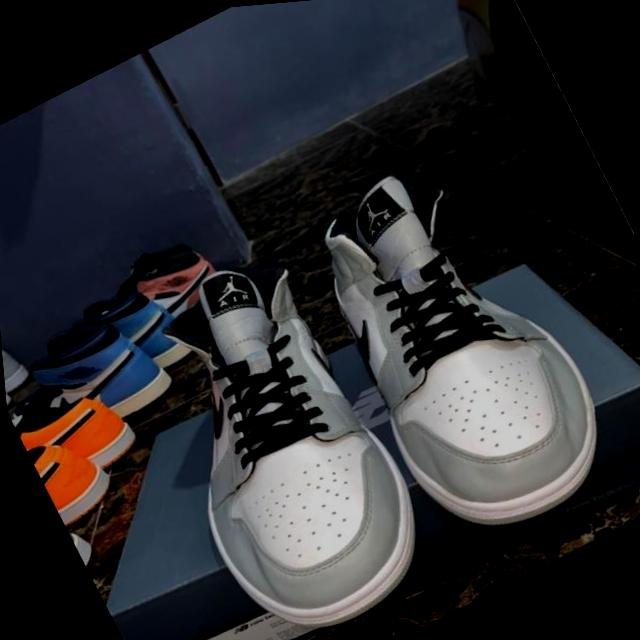nike_fake_jordan: (270, 121, 640, 577), (97, 225, 460, 640)
